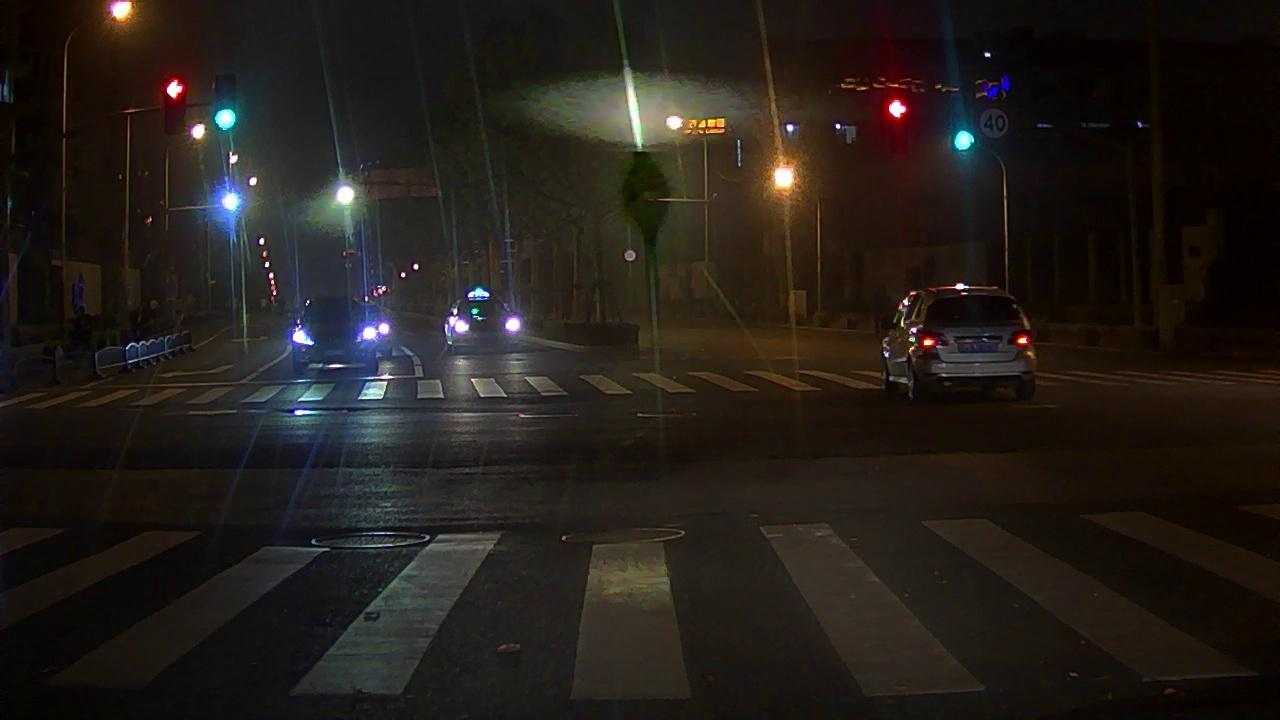traffic_light: (213, 75, 236, 131), (885, 101, 907, 154), (955, 100, 975, 155), (164, 81, 184, 131)
